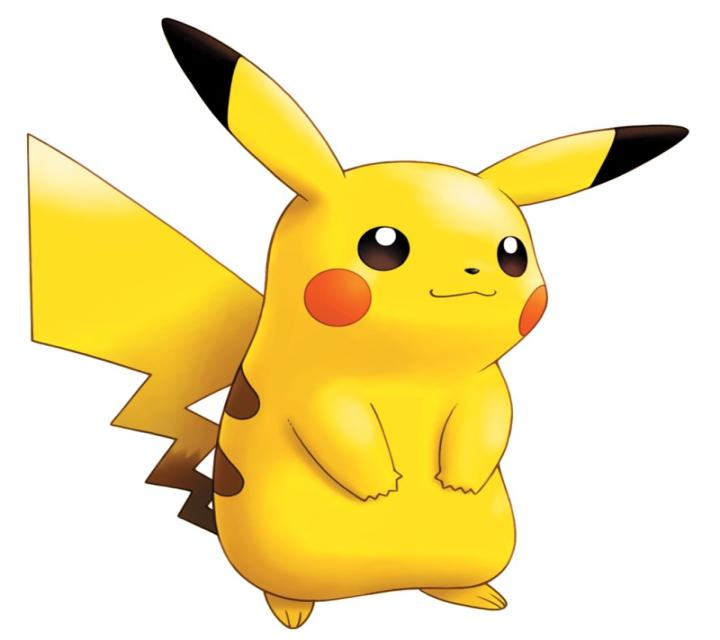Pikachu: (19, 10, 678, 636)
